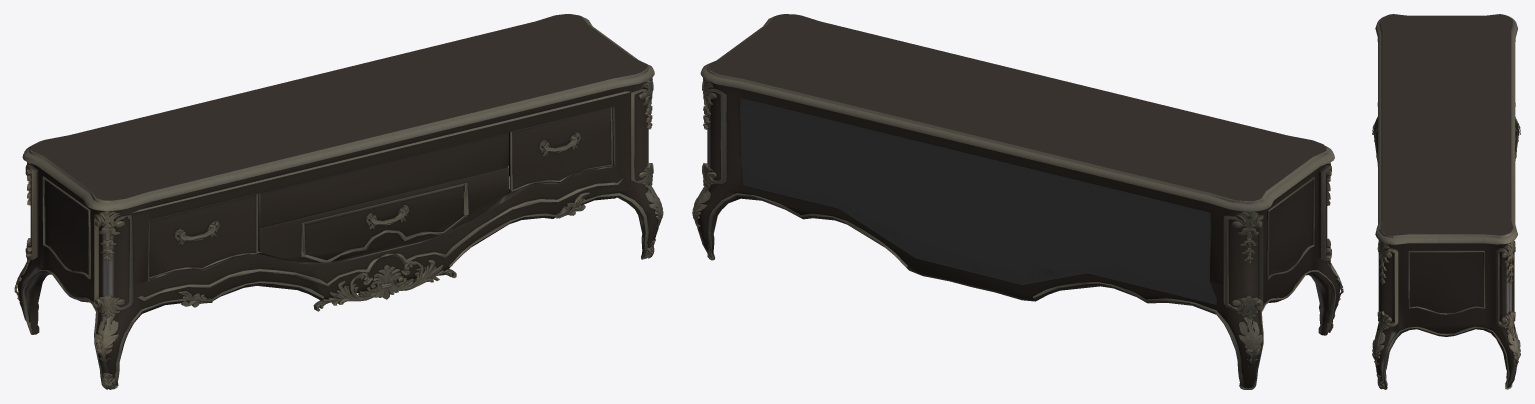
Rendered from TV_Stand_bb1e010c-9581-5e5a-afdd-48011297b884.glb.
3 views of the same model, side by side, from view 1: azimuth 30°, elevation 25°; view 2: azimuth 150°, elevation 25°; view 3: azimuth 270°, elevation 25° (orthographic). The views are drawn at different scales.
Parts seen in each view (by area): view 1: raw_model.obj; view 2: raw_model.obj; view 3: raw_model.obj.
Boxes of the visible parts, x1=… form: raw_model.obj: x1=14, y1=14, x2=663, y2=389; raw_model.obj: x1=692, y1=14, x2=1343, y2=389; raw_model.obj: x1=1372, y1=14, x2=1520, y2=389.
Size of the model in its own units: 1.76 by 0.5578 by 0.4833.
1 material, 1 textured.
